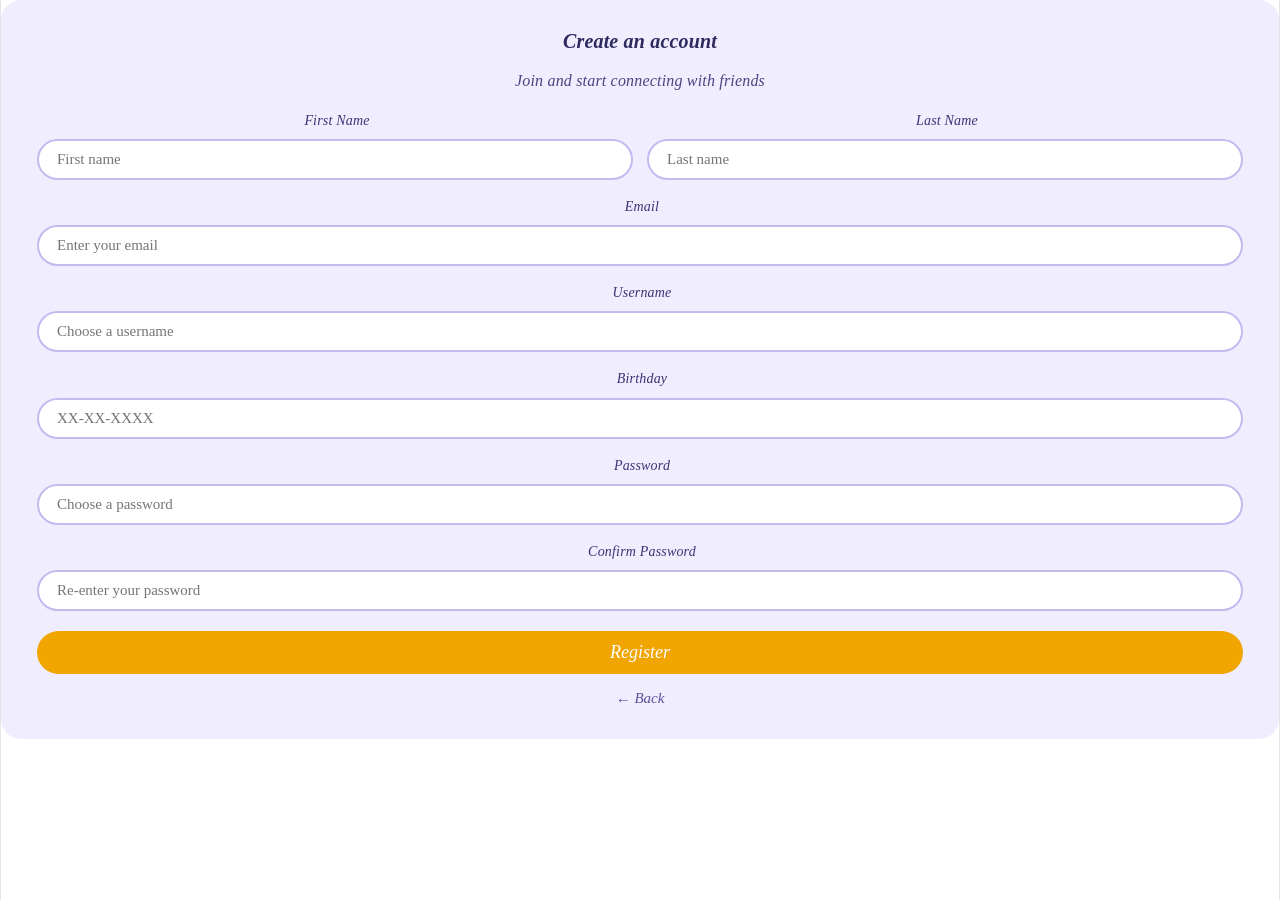
Scenario: Register Page Unit Tests › shows error if passwords do not match
Type "John" into the field with placeholder "First name".
click(335, 160); type("John")  # box left=37, top=139, right=633, bottom=180
Type "Doe" into the field with placeholder "Last name".
click(945, 160); type("Doe")  # box left=647, top=139, right=1243, bottom=180
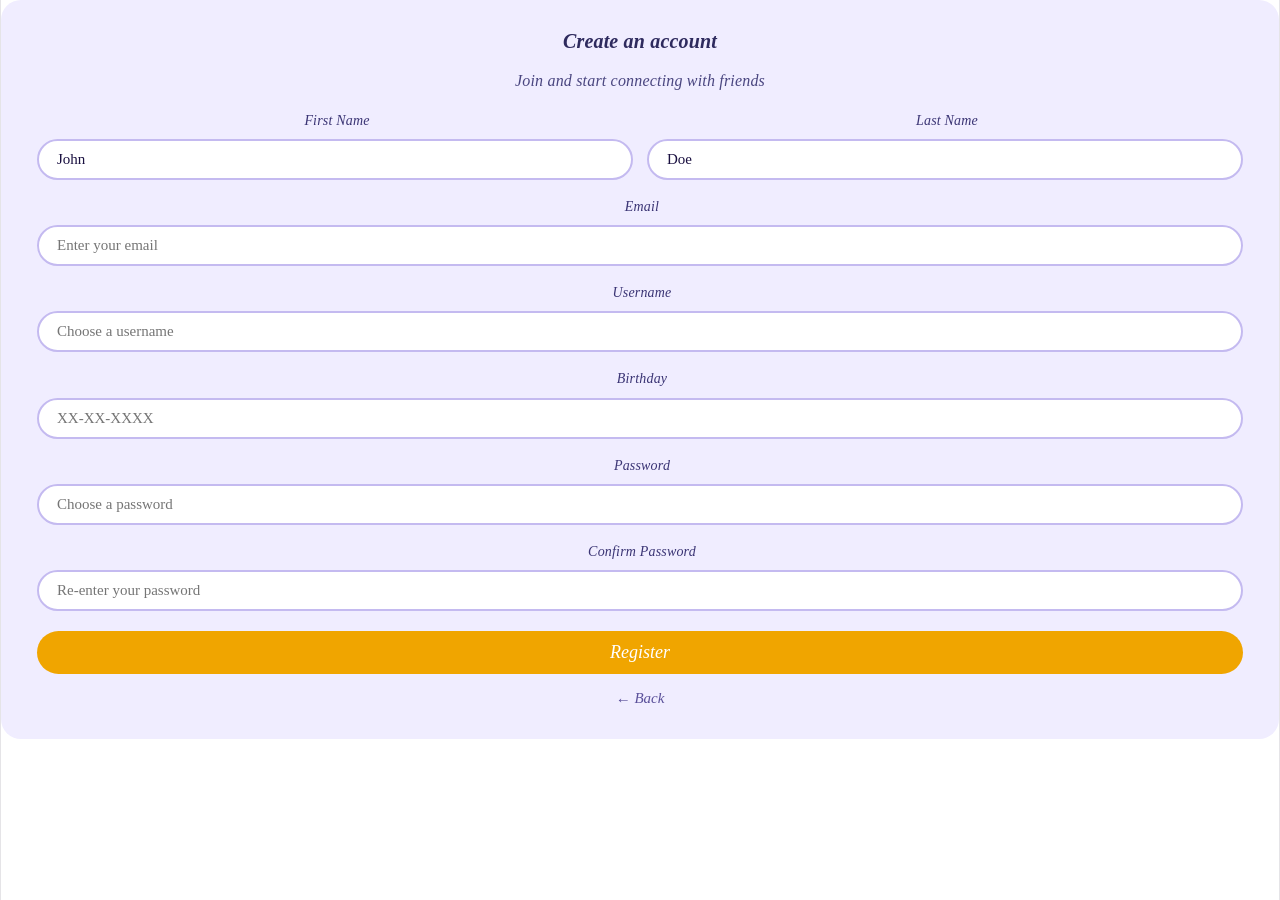
Type "john@doe.com" into the field with placeholder "Enter your email".
click(640, 246); type("john@doe.com")  # box left=37, top=225, right=1243, bottom=266
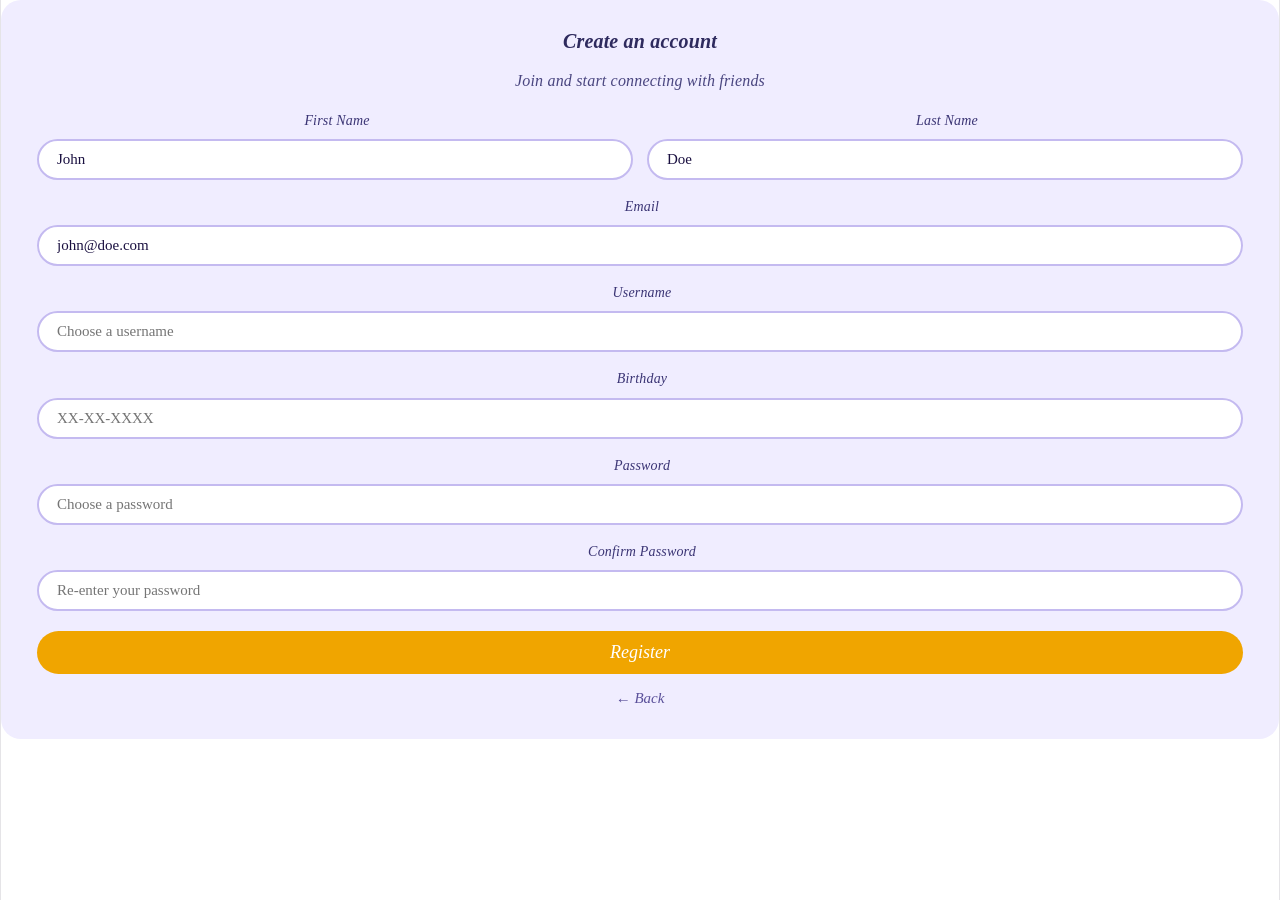
Type "johndoe" into the field with placeholder "Choose a username".
click(640, 332); type("johndoe")  # box left=37, top=312, right=1243, bottom=352
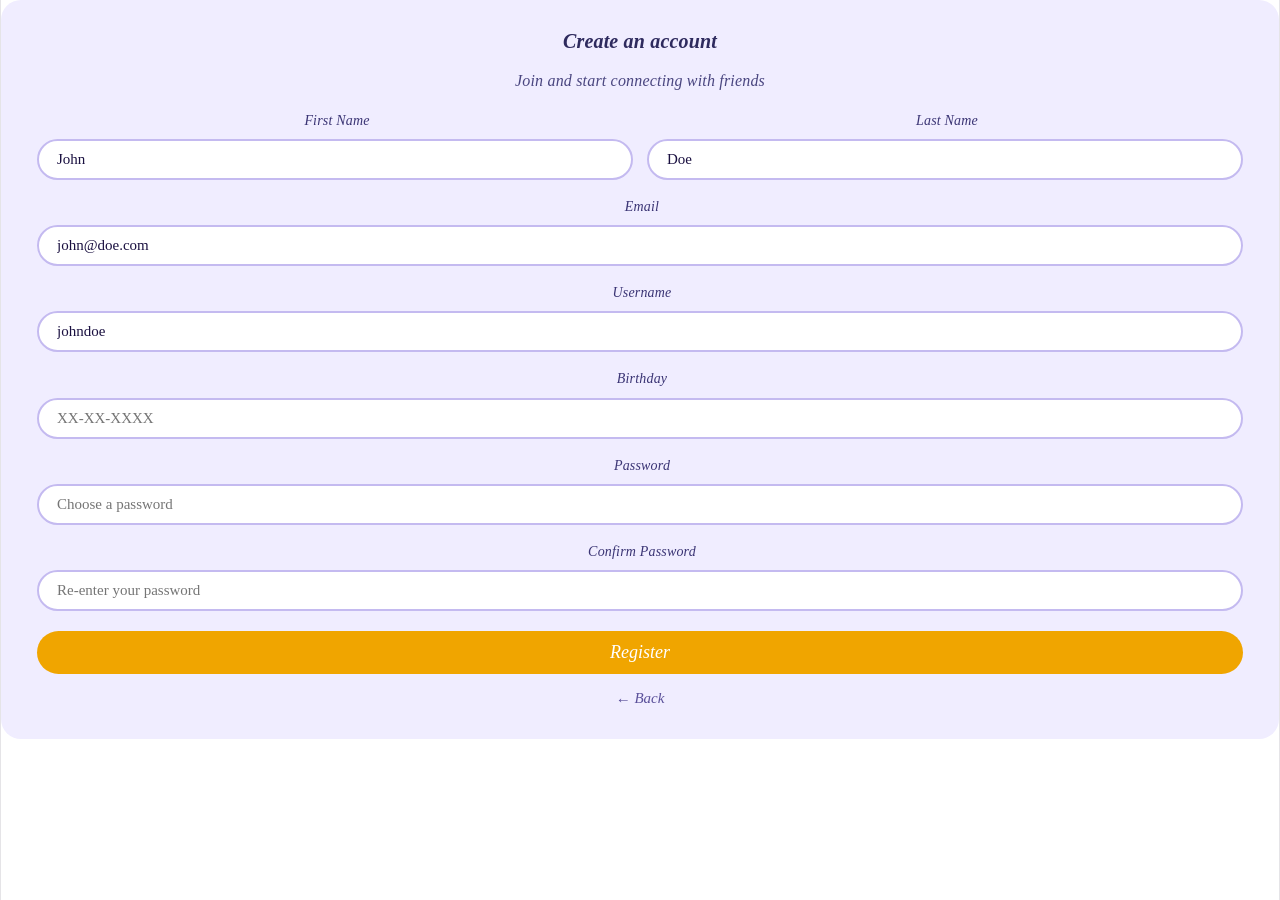
Type "password123" into the password field with placeholder "Choose a password".
click(640, 504); type("password123")  # box left=37, top=484, right=1243, bottom=525
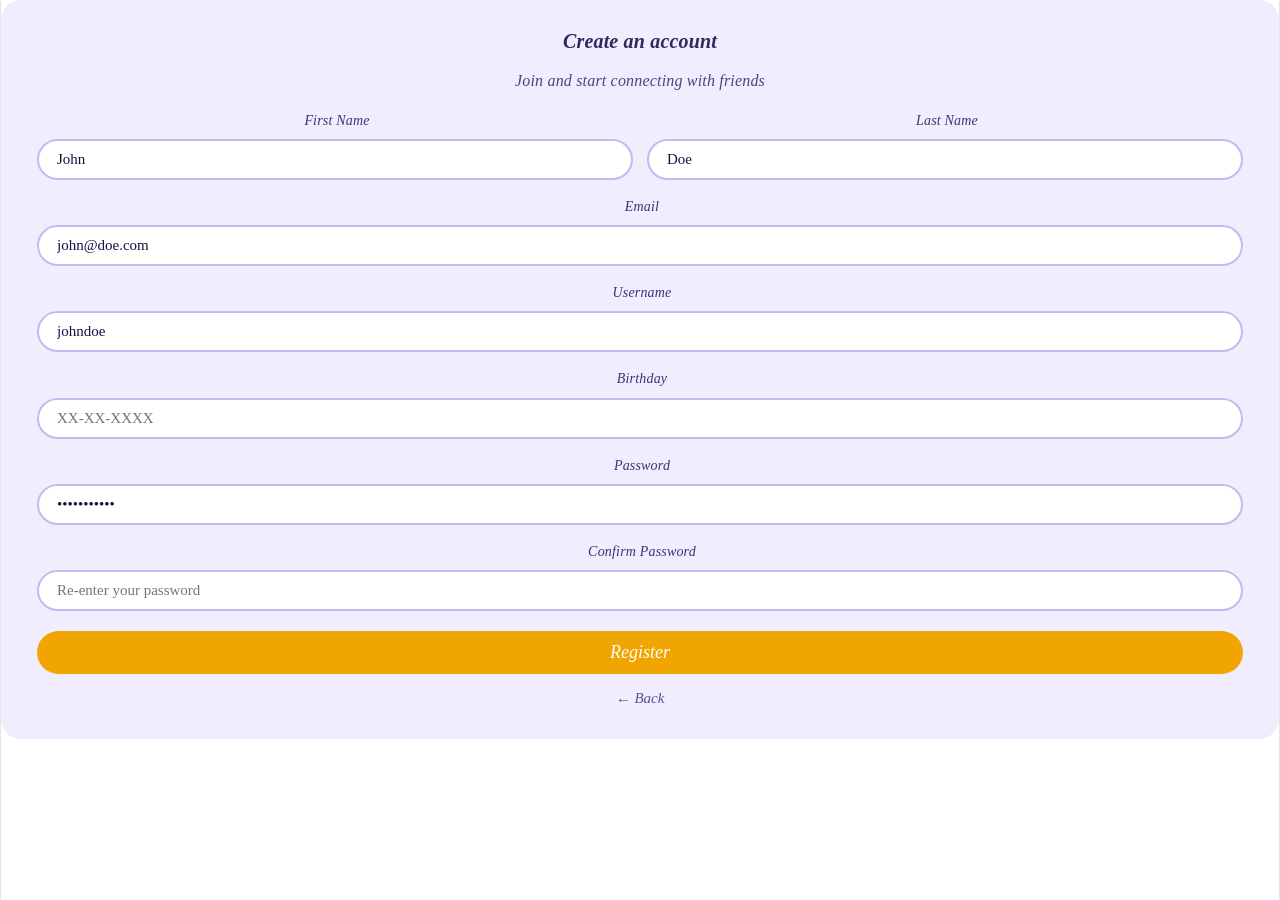
Type "password456" into the password field with placeholder "Re-enter your password".
click(640, 590); type("password456")  # box left=37, top=570, right=1243, bottom=611
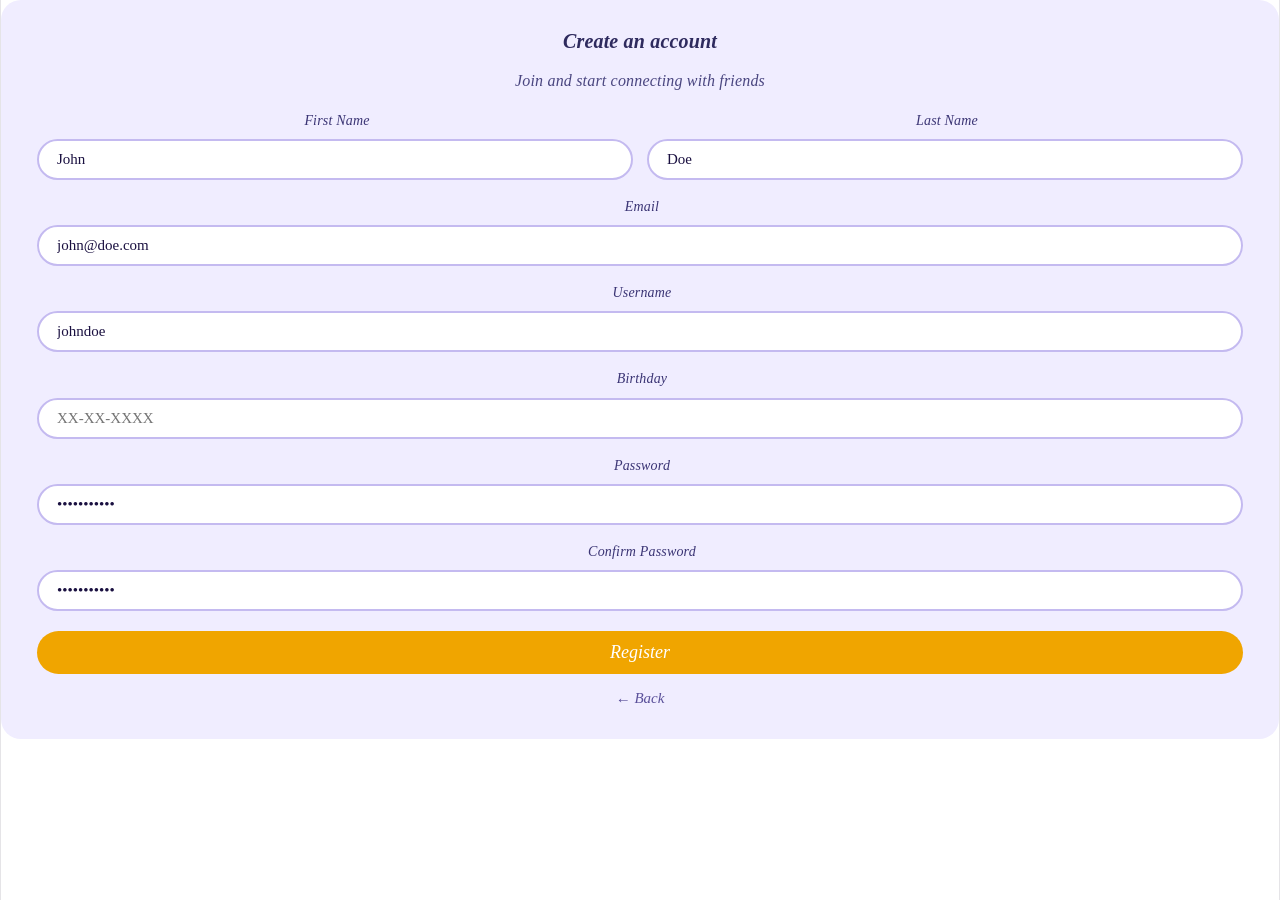
Click the button "Register".
click(640, 652)  # box left=37, top=631, right=1243, bottom=674
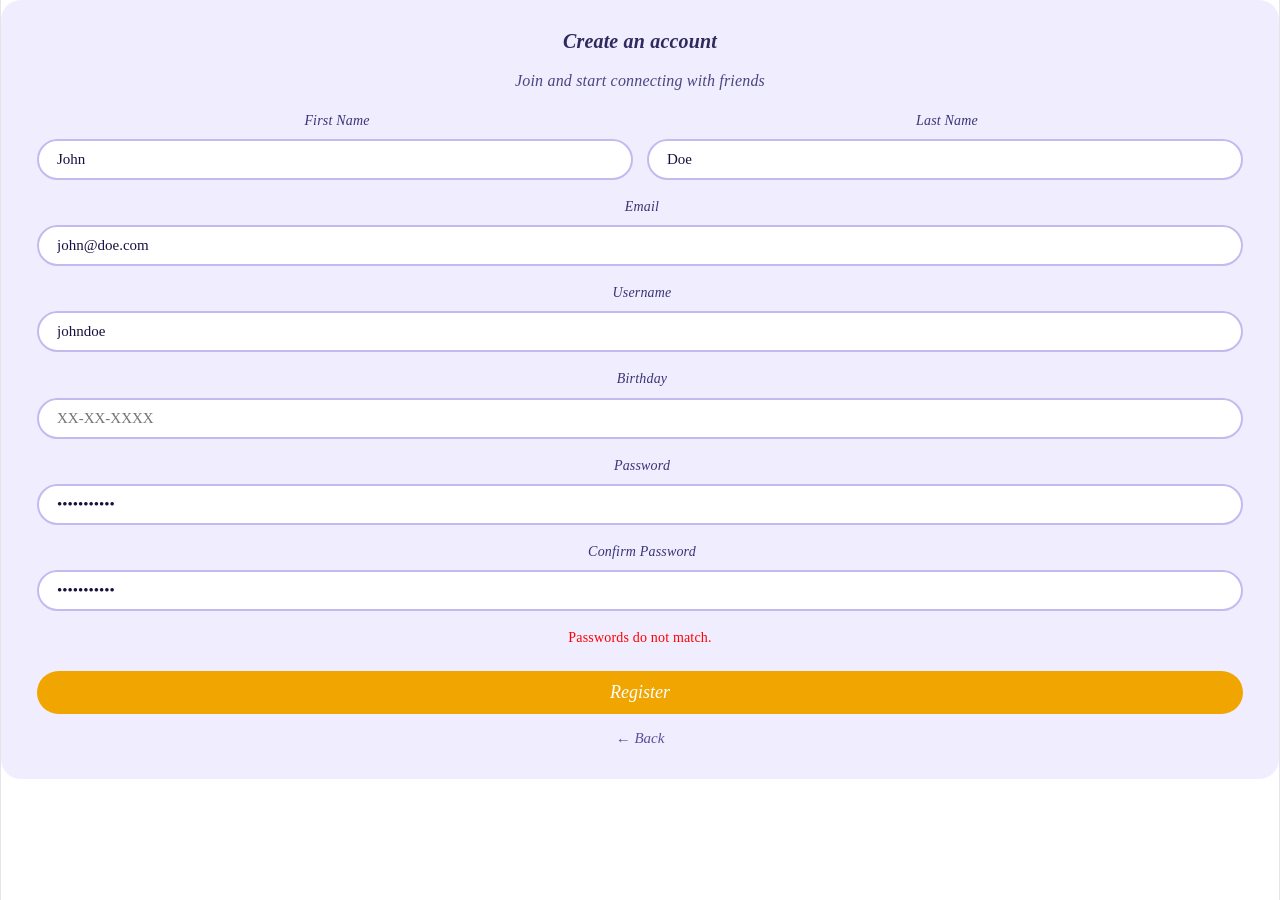
Now the text "Passwords do not match." is shown, box left=568, top=630, right=712, bottom=645
